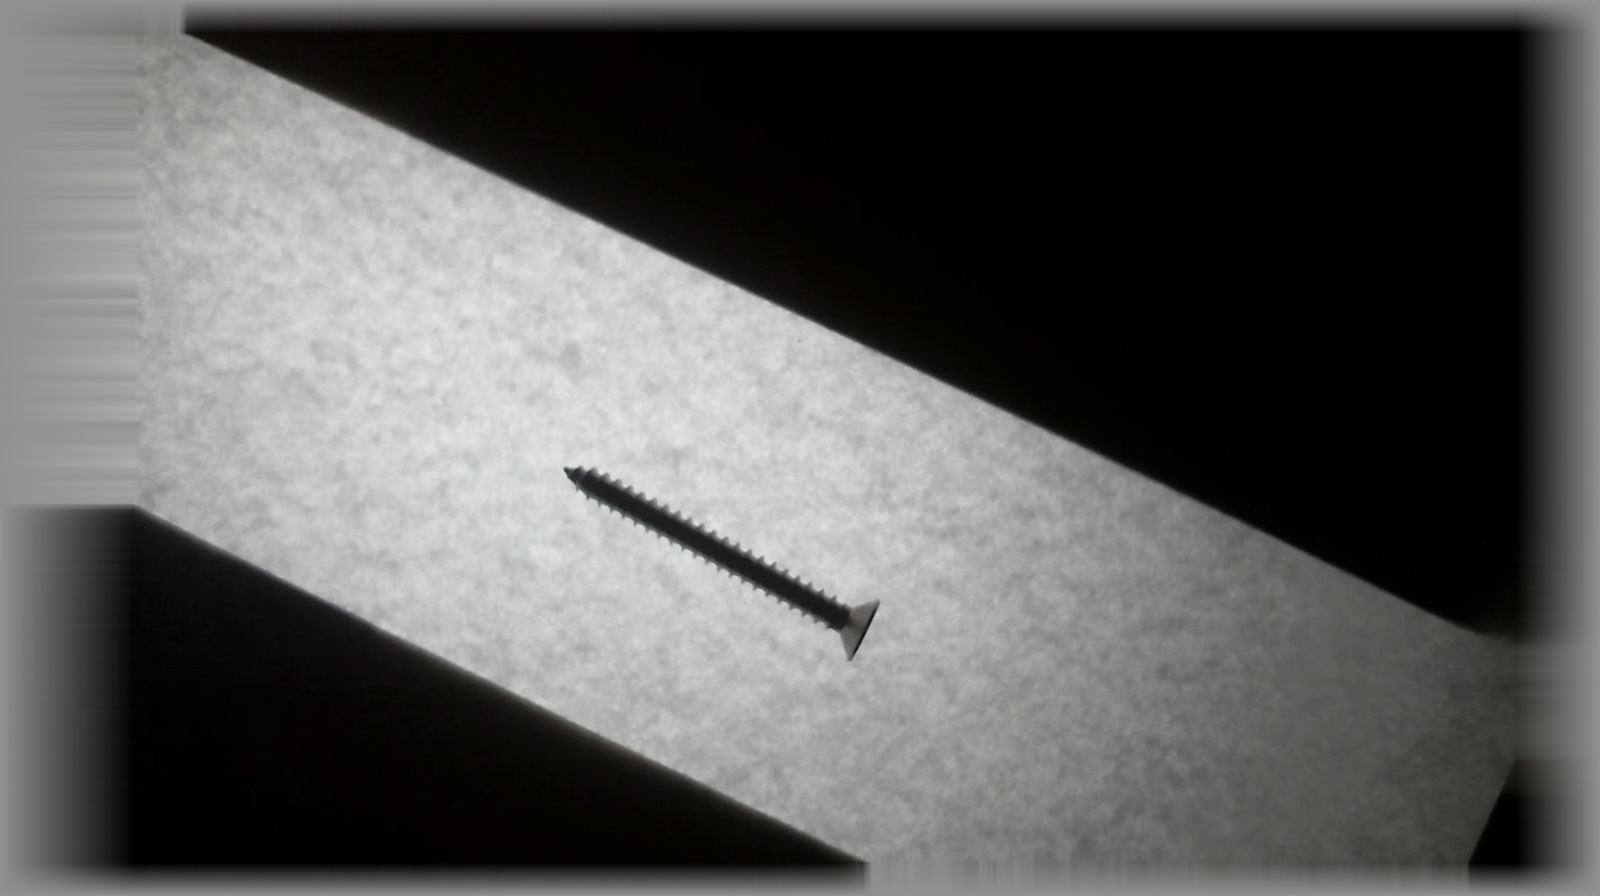S002: (538, 420, 907, 671)
